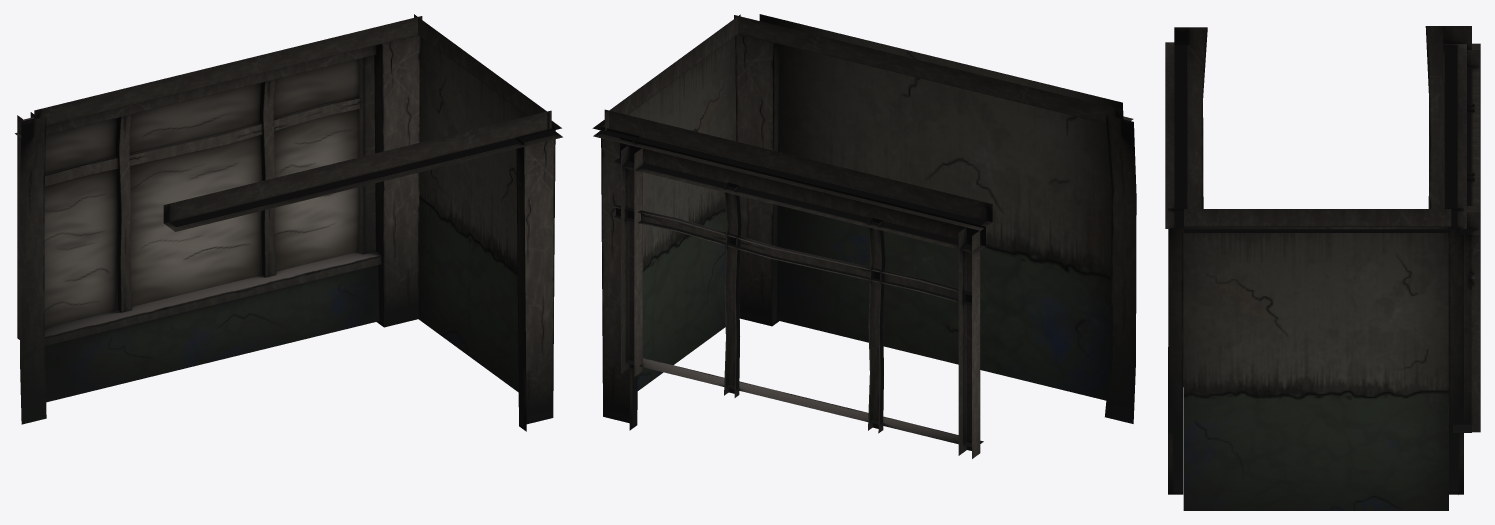
The model's file is HallwayEnd.fbx.
3 renders of one model, left to right at view 1: azimuth 30°, elevation 25°; view 2: azimuth 150°, elevation 25°; view 3: azimuth 270°, elevation 25°, orthographic.
Visible parts, largest first — view 1: HallWayEnd3, HallWayEnd2, HallWayEnd4; view 2: HallWayEnd4, HallWayEnd3, HallWayEnd2; view 3: HallWayEnd2, HallWayEnd3, HallWayEnd4.
Boxes of the visible parts, x1,y1,x2,y2 form: HallWayEnd3: (15, 16, 422, 424); HallWayEnd2: (414, 14, 561, 392); HallWayEnd4: (163, 110, 562, 431); HallWayEnd4: (734, 14, 1136, 423); HallWayEnd3: (593, 109, 992, 458); HallWayEnd2: (592, 14, 740, 390); HallWayEnd2: (1183, 209, 1451, 510); HallWayEnd3: (1425, 26, 1480, 494); HallWayEnd4: (1165, 27, 1207, 494).
Size of the model in its own units: 304 by 212 by 202.
